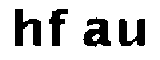a: (81, 16, 112, 49)
f: (45, 6, 74, 50)
h: (7, 6, 43, 50)
u: (114, 10, 148, 55)
